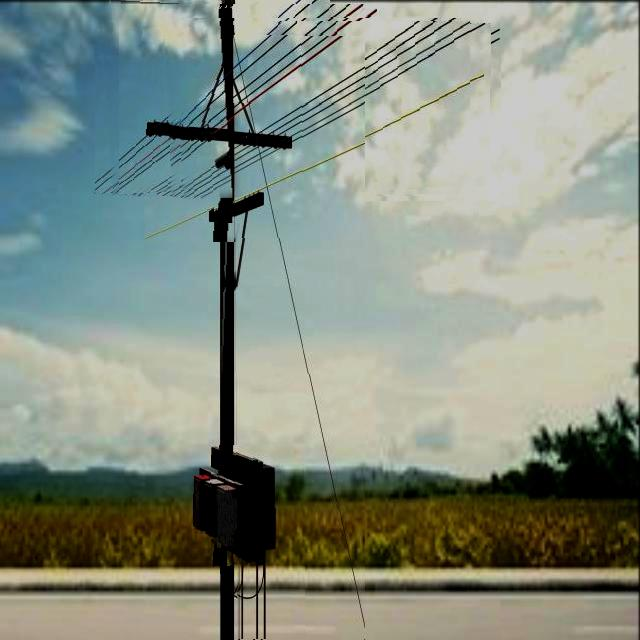crossarm: (211, 445, 259, 565), (152, 125, 294, 148), (214, 194, 263, 223)
pole: (221, 9, 234, 467), (221, 494, 222, 530)
transformer: (203, 479, 225, 540), (217, 483, 237, 548), (193, 477, 210, 530)
wire: (234, 35, 365, 633), (145, 85, 485, 242), (181, 23, 478, 199), (188, 34, 501, 201), (171, 18, 461, 198), (182, 21, 460, 200), (157, 21, 441, 196), (133, 6, 378, 196), (119, 4, 358, 190), (122, 10, 356, 197), (110, 0, 321, 196), (95, 1, 315, 186)
